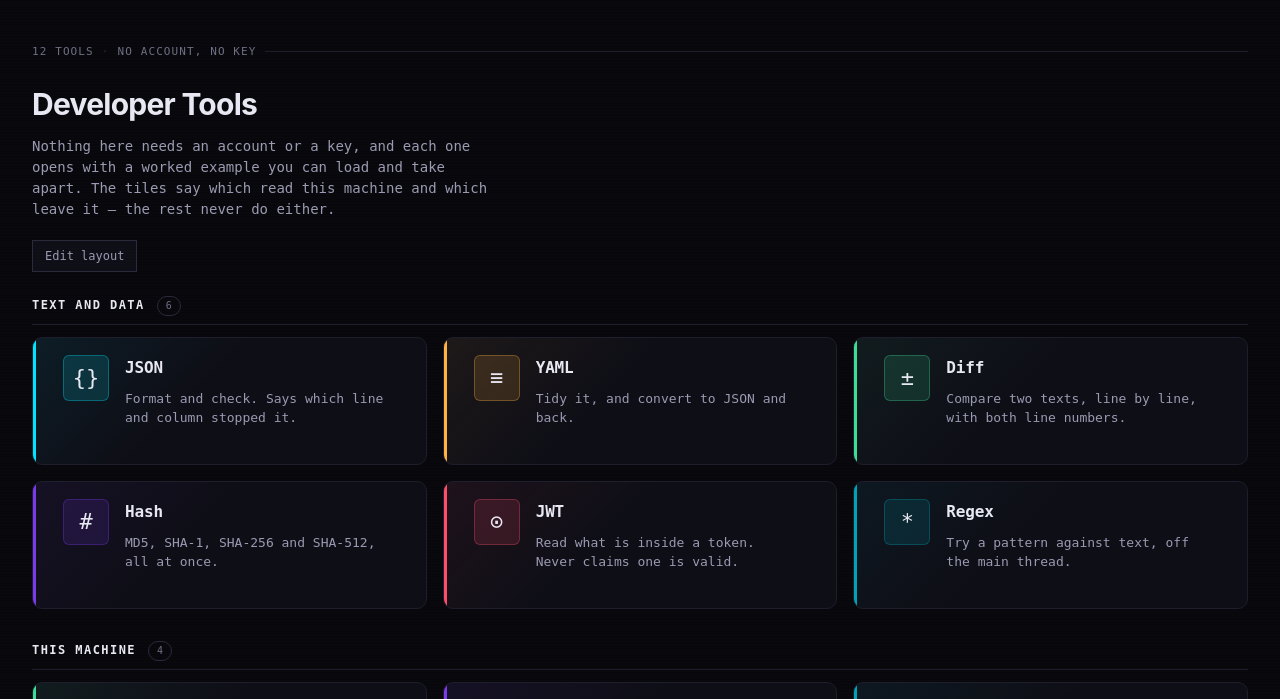
Test: Developer › more than one at a time › keeps the first tool open when a second is opened
Click the button that starts with "JSON": [225, 397] box left=57, top=354, right=394, bottom=441
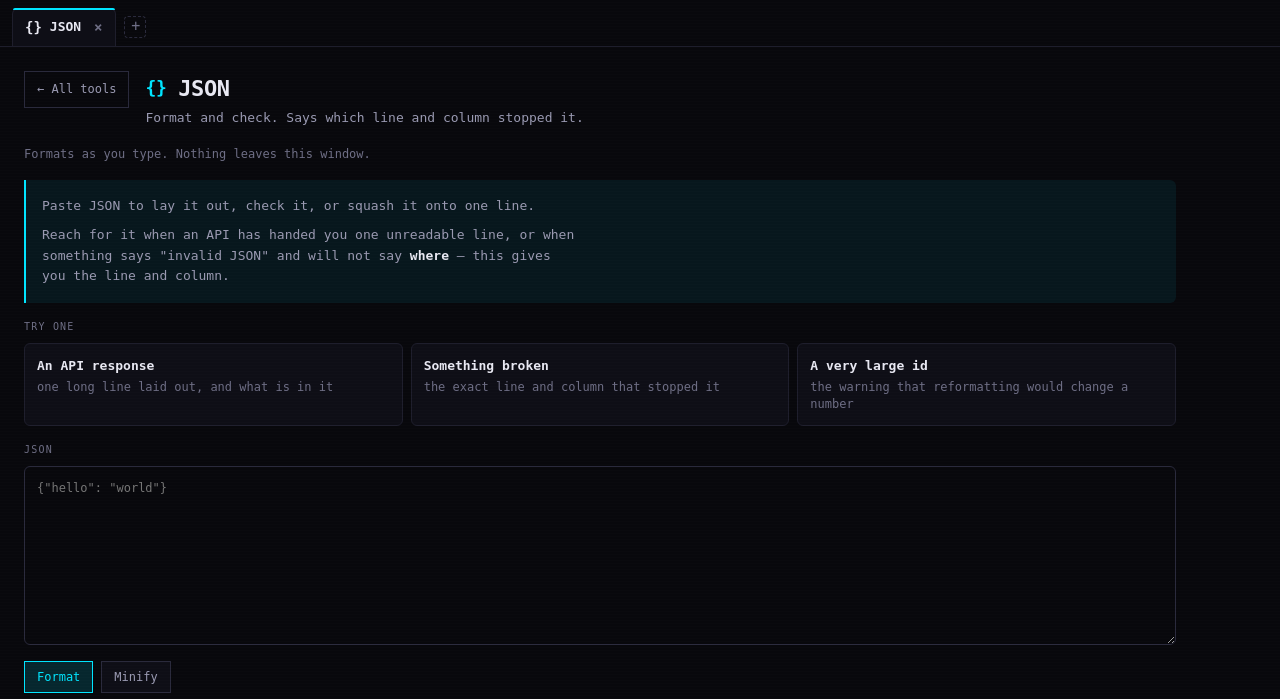
Click the button "← All tools": [77, 89] box left=24, top=71, right=130, bottom=108
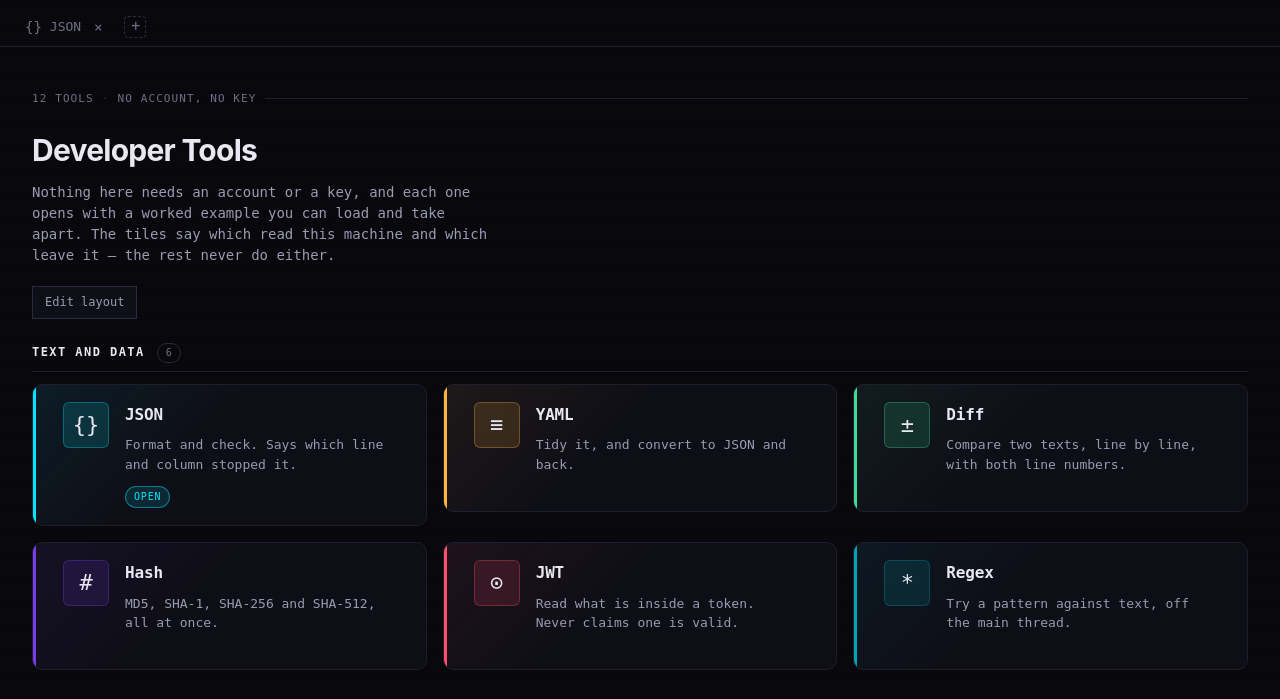
Click the button "# Hash MD5, SHA-1, SHA-256 and SHA-512, all at once.": [225, 603] box left=57, top=559, right=394, bottom=646
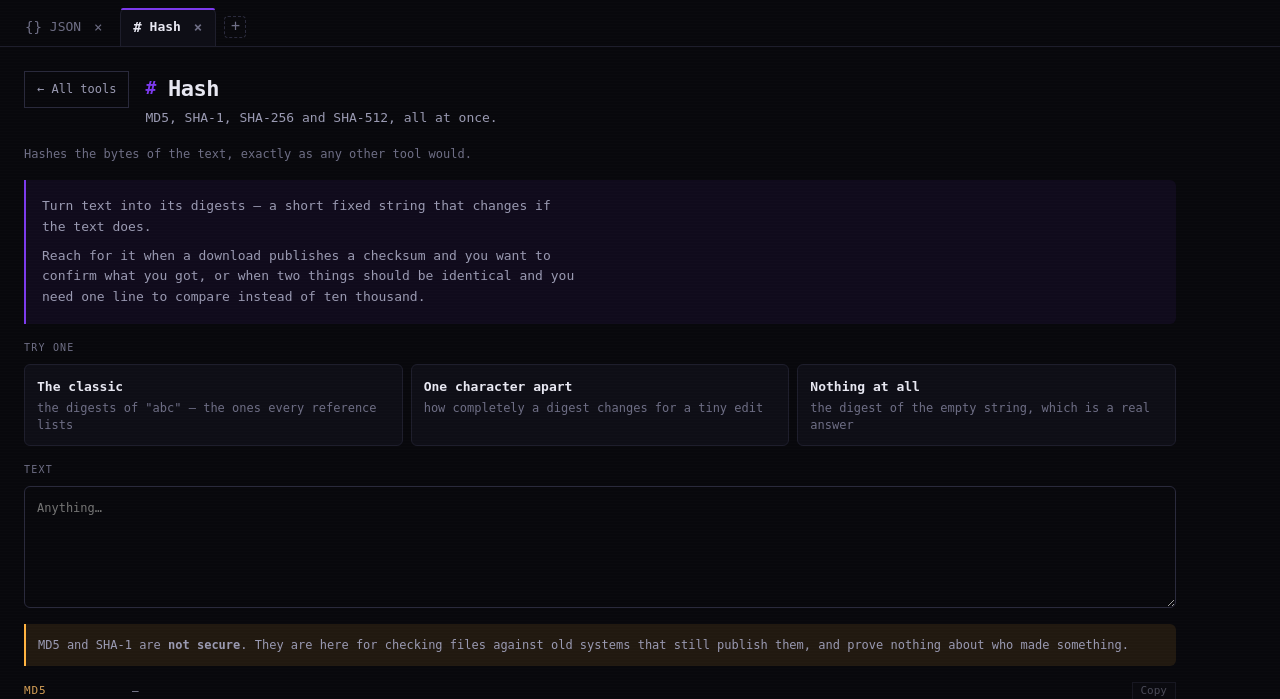
Expected: the tab "{} JSON ×" is shown, left=12, top=8, right=116, bottom=46
Expected: the tab "# Hash ×" is shown, left=120, top=8, right=216, bottom=46
